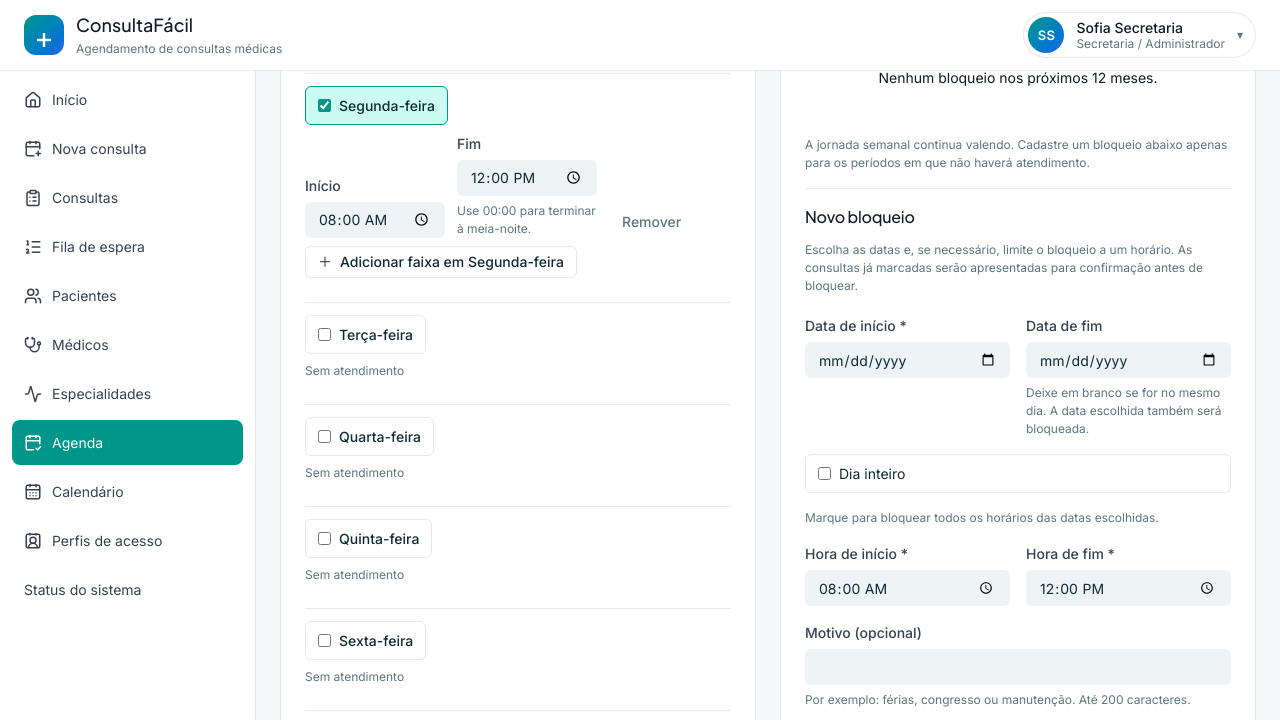
Test case: bloqueio sobre consultas marcadas › mostra as consultas atingidas e só bloqueia depois da confirmação
(page scrolled)
In the date field labelled "Data de início *": coordinates (908, 360) 805,342 -> 1010,378, type "2026-11-16"
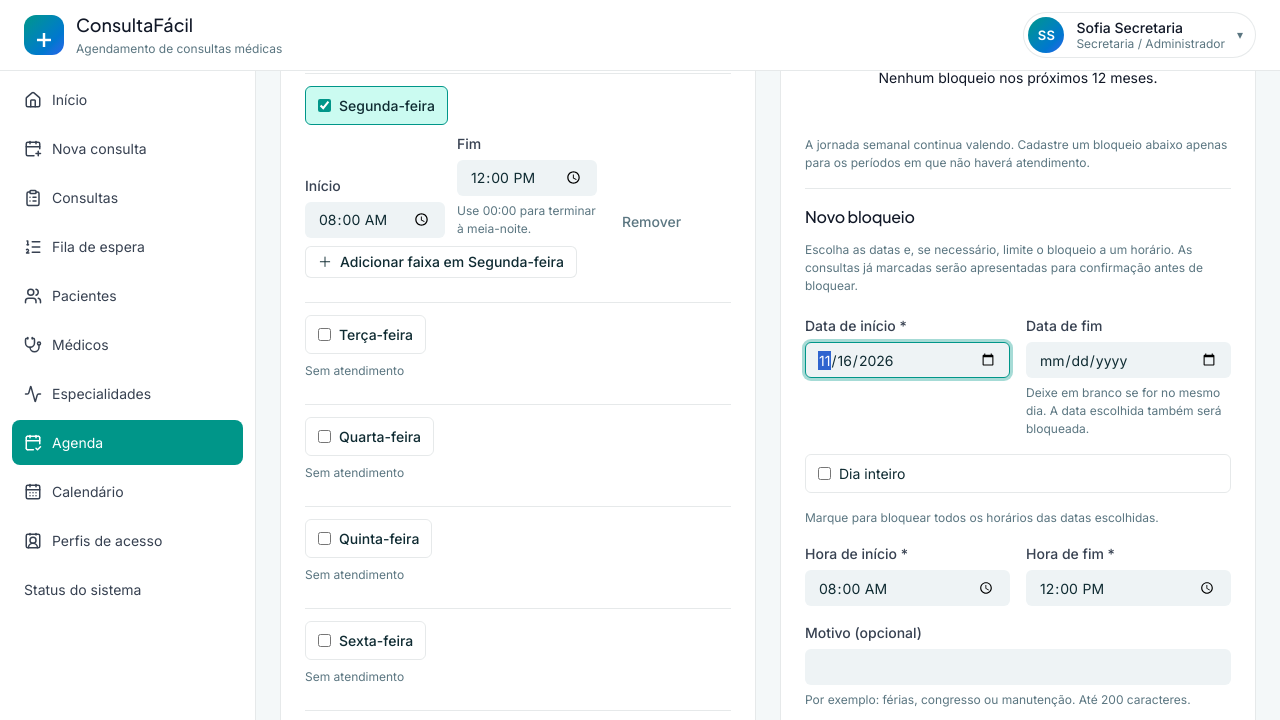
Click the checkbox labelled "Dia inteiro": coordinates (824, 474) 818,467 -> 831,480
(page scrolled)
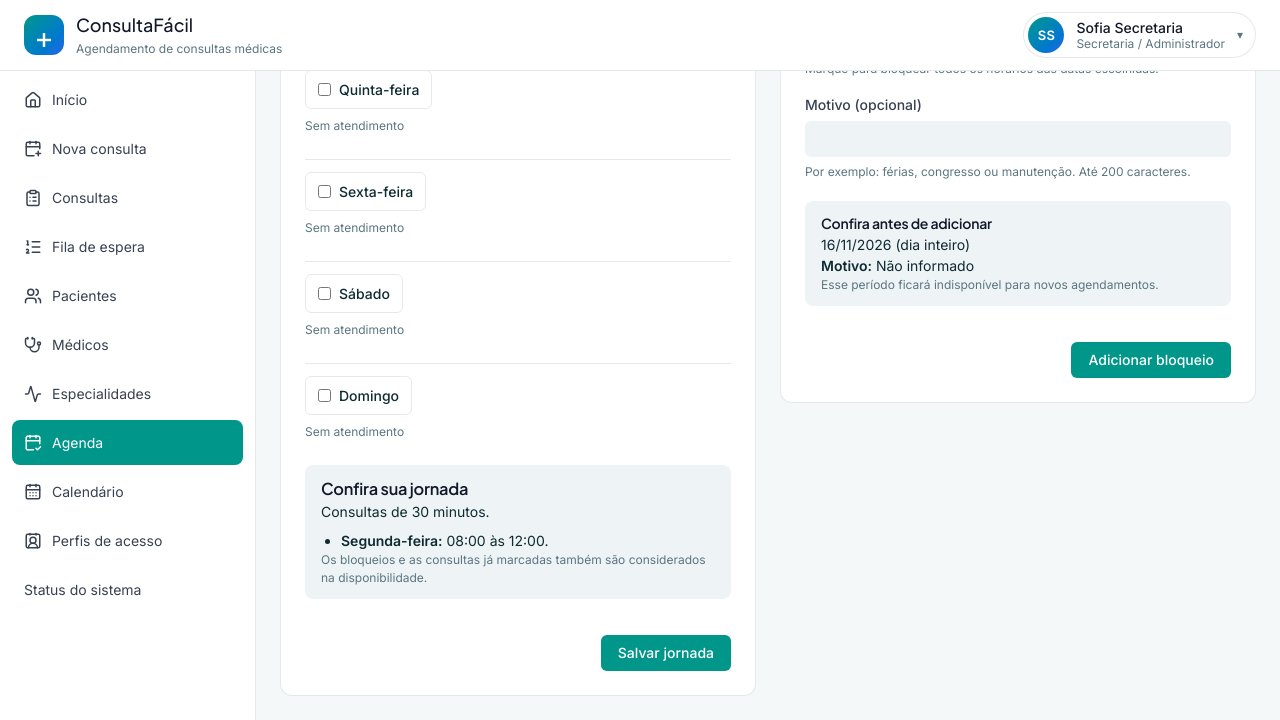
Click the button "Adicionar bloqueio": coordinates (1151, 360) 1072,342 -> 1231,378
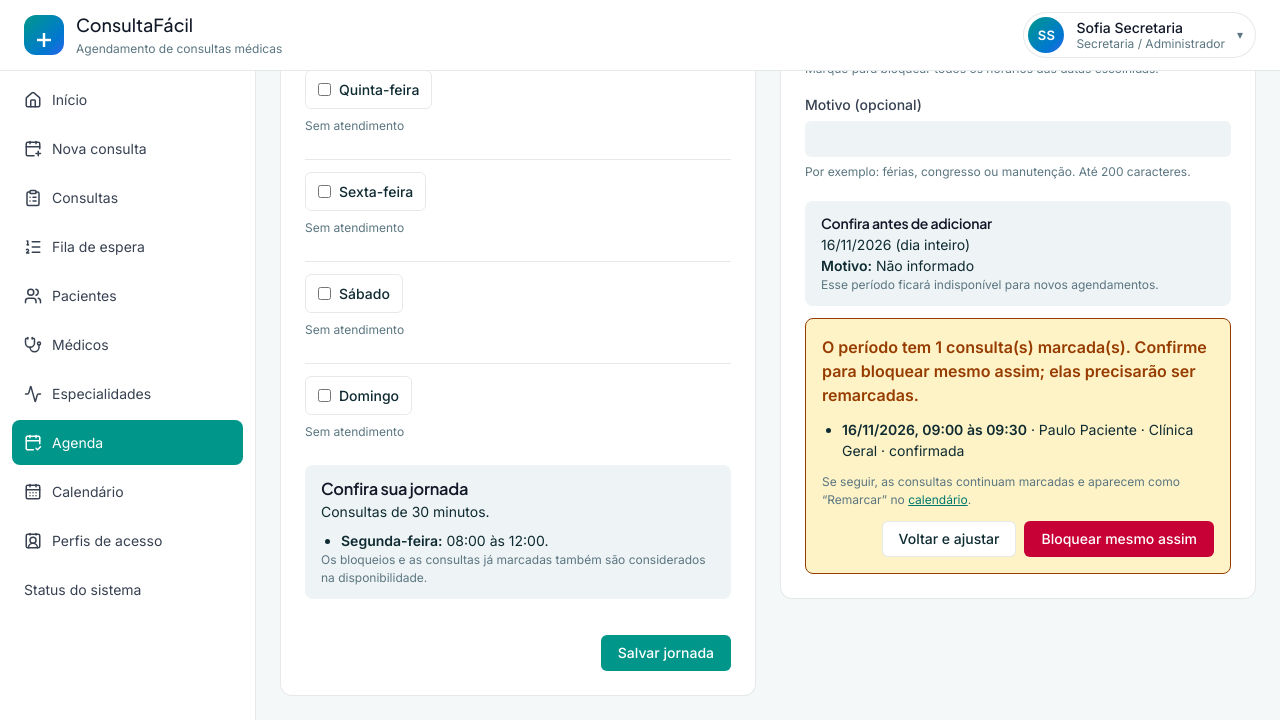
Expected: the text "16/11/2026, 09:00 às 09:30" is shown, 842,421 -> 1027,438
Expected: the text "O período tem 1 consulta(s) marcada(s)" shows "Paulo Paciente · Clínica Geral · confirmada", 805,318 -> 1231,574
Expected: the button "Adicionar bloqueio" is gone
Click the button "Bloquear mesmo assim": coordinates (1119, 539) 1024,521 -> 1214,557
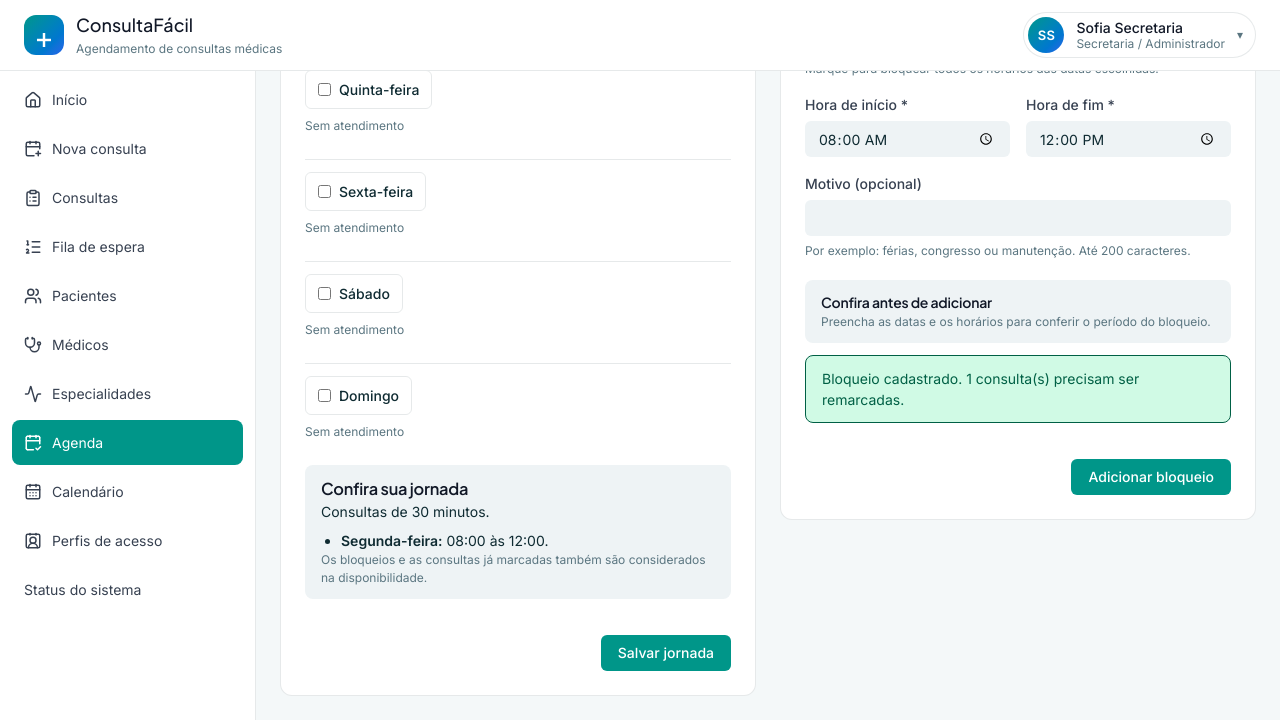
Expected: the text "Bloqueio cadastrado. 1 consulta(s) precisam ser remarcadas." is shown, 822,370 -> 1139,408
